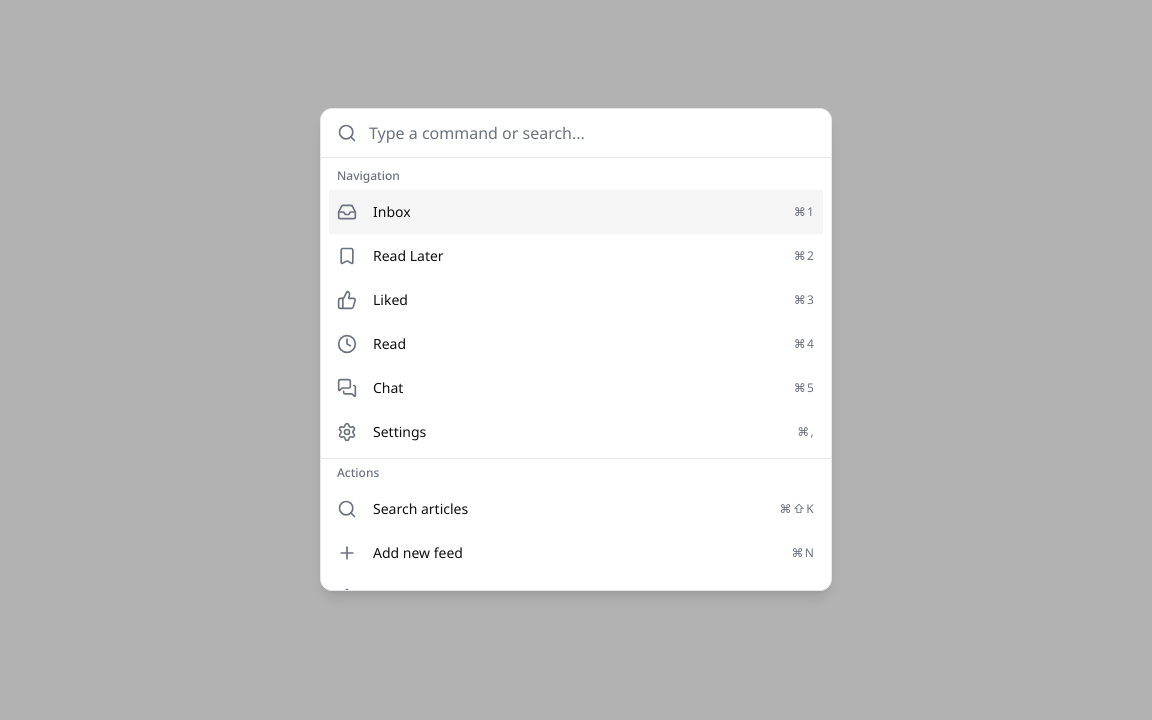
Test: CommandPalette › shows feeds when search is typed
Type "Test" into the dropdown with placeholder "Type a command or search...".
click(592, 133); type("Test")  # box [369,109,815,157]
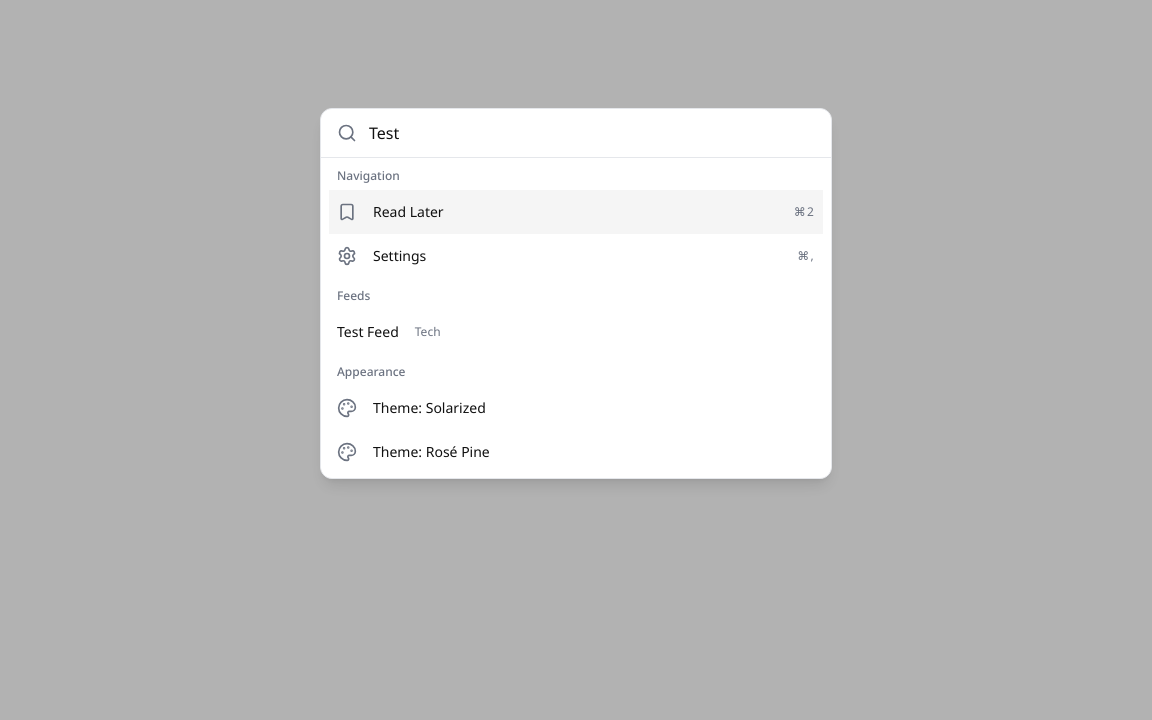
Now the text "Test Feed" is shown, box [337,322,399,342]
